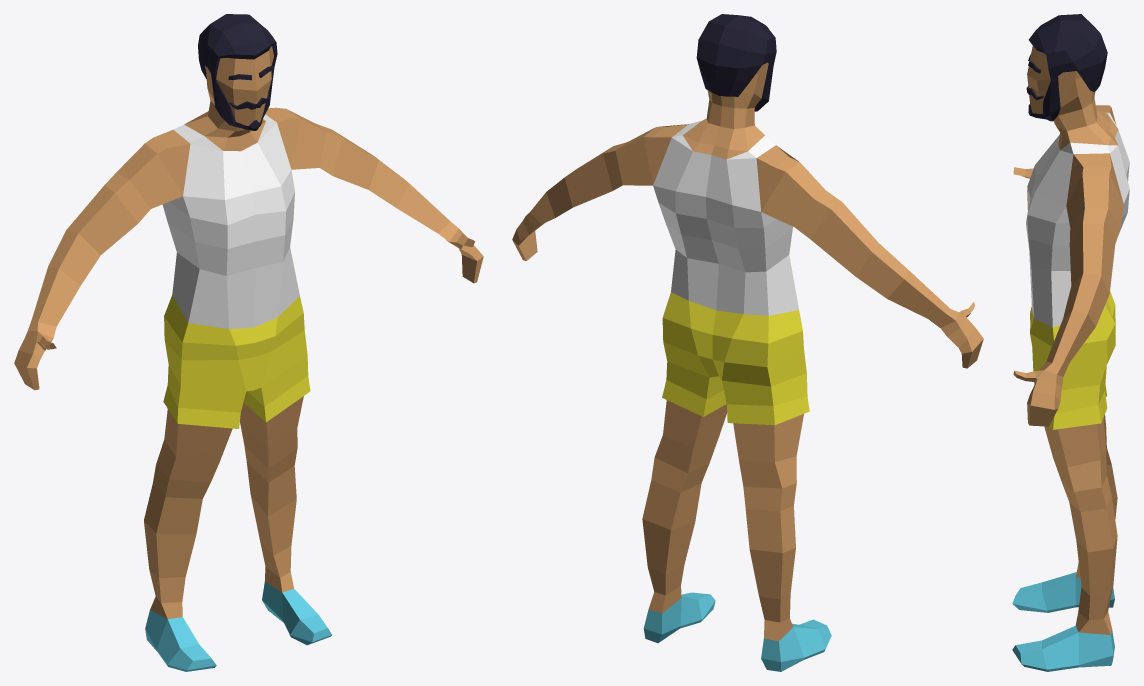
Rendered from male_01_a.gltf.
The picture shows the model from 3 angles, left to right: view 1: azimuth 30°, elevation 25°; view 2: azimuth 150°, elevation 25°; view 3: azimuth 270°, elevation 25°; orthographic projection.
Parts seen in each view (by area): view 1: male_01_a; view 2: male_01_a; view 3: male_01_a.
Boxes of the visible parts, box(x1,y1,x2,y2) form: male_01_a: box(14, 14, 483, 671); male_01_a: box(512, 14, 983, 671); male_01_a: box(1012, 14, 1129, 671).
Size of the model in its own units: 1.46 by 1.89 by 0.3269.
1 material, 1 textured.
